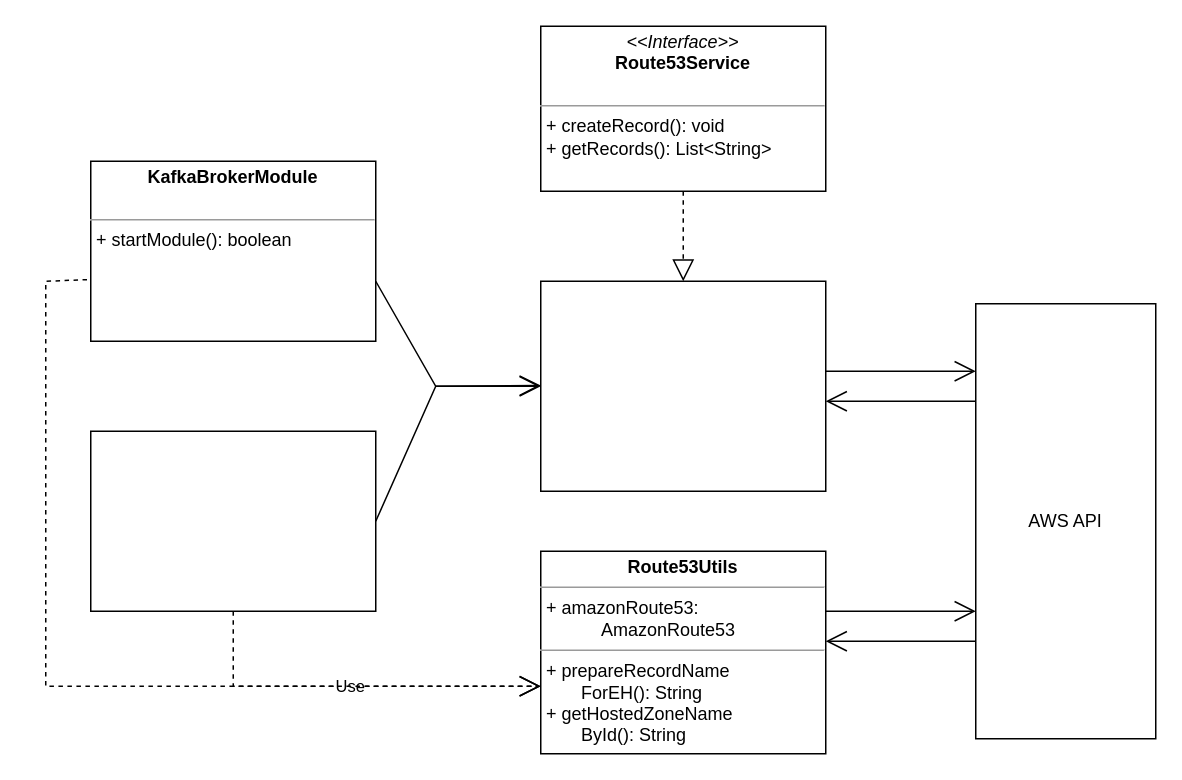
Some shapes in this 1182 by 780 pixel diagram are drawn without their labels. Here are the shapes that lost their labels. From the top down, the box of each, then its label:
(539, 280, 826, 491): EHRoute53ServiceImpl + amazonRoute53: AmazonRoute53 + createRecord(): void
(89, 430, 376, 611): ZkPeerModule + startModule(): boolean
